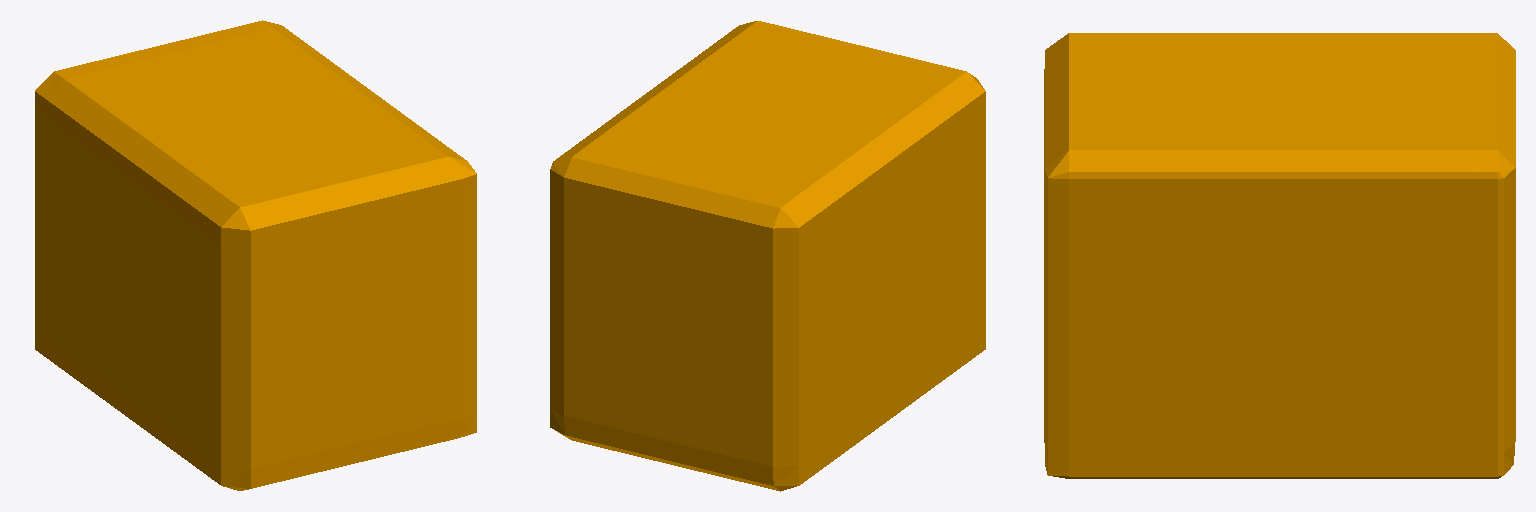
URDF robot description (cylinder_box_1):
<?xml version="1.0" encoding="utf-8"?>  <robot name="cylinder_box_1">   <link name="cylinder_box_1">     <visual>       <geometry>         <mesh filename="../meshes/box/box_1.stl" scale="1 1 1"/>       </geometry>     </visual>     <collision>       <geometry>         <mesh filename="../meshes/box/box_1.stl" scale="1 1 1"/>       </geometry>     </collision>     <inertial>        <origin         xyz="0 0 0"         rpy="0 0 0" />       <mass value="0.4299609821263317"/>       <origin rpy="0 0 0" xyz="0 0 0"/>       <inertia ixx="0.0004867485222868341" ixy="7.134213315642046e-07" ixz="-9.427247929946566e-08" iyy="0.00033014942662938916" iyz="-1.3097929810270838e-07" izz="0.00045792747010123236"/>     </inertial>   </link>  </robot>

--- Render facts (derived) ---
The picture shows the robot from 3 angles, left to right: view 1: azimuth 30°, elevation 25°; view 2: azimuth 150°, elevation 25°; view 3: azimuth 270°, elevation 25°; orthographic projection.
Model cylinder_box_1 with 1 links and 0 joints (none), rooted at cylinder_box_1, posed every joint at zero.
Links seen in each view (by area): view 1: cylinder_box_1; view 2: cylinder_box_1; view 3: cylinder_box_1.
Link boxes in pixels (left/top/right/bottom): cylinder_box_1: left=35, top=20, right=476, bottom=490; cylinder_box_1: left=550, top=21, right=985, bottom=491; cylinder_box_1: left=1044, top=33, right=1515, bottom=478.
Bounding box of the posed robot: 0.0654 × 0.0934 × 0.0714 m (x, y, z).
Meshes: 1 distinct files referenced, 1 mesh visuals loaded (1 binary STL).